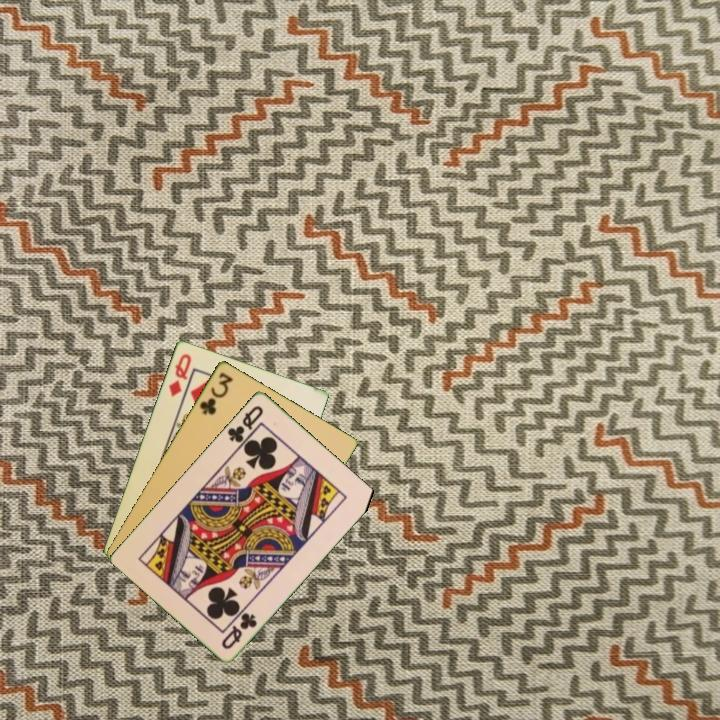3c: (196, 368, 236, 418)
Qc: (224, 401, 266, 450), (218, 608, 260, 652)
Qd: (165, 350, 194, 399)
